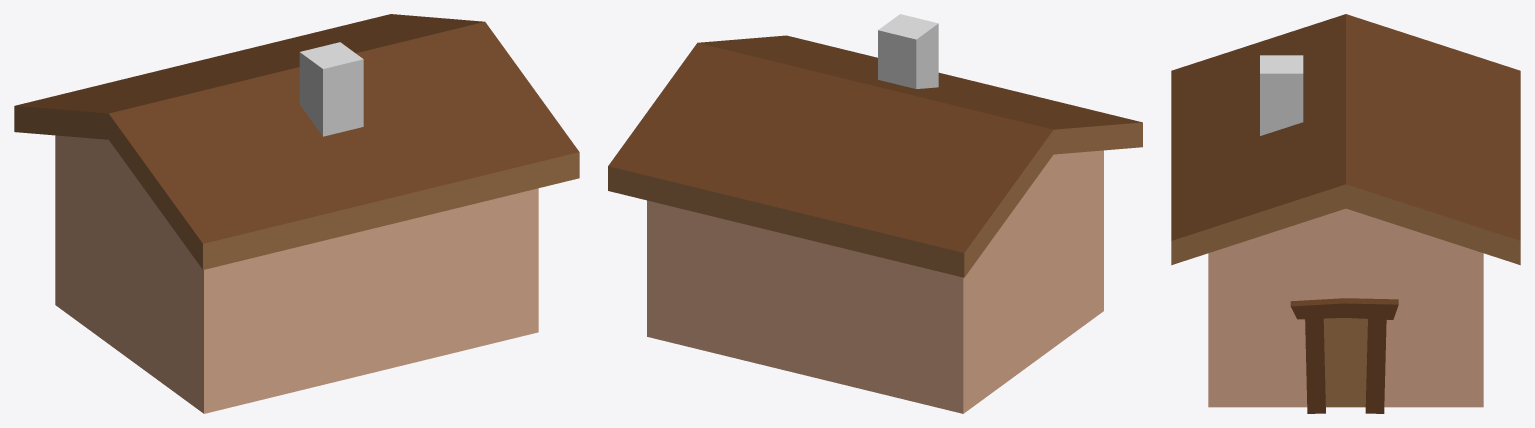
3 renders of one model, left to right at view 1: azimuth 30°, elevation 25°; view 2: azimuth 150°, elevation 25°; view 3: azimuth 270°, elevation 25°, orthographic. The views are drawn at different scales.
Visible parts, largest first — view 1: Ev_5; view 2: Ev_5; view 3: Ev_5.
Part boxes in pixels (x1=…): Ev_5: x1=14, y1=14, x2=579, y2=413; Ev_5: x1=608, y1=14, x2=1142, y2=413; Ev_5: x1=1171, y1=14, x2=1520, y2=413.
Size of the model in its own units: 720 by 530 by 625.
